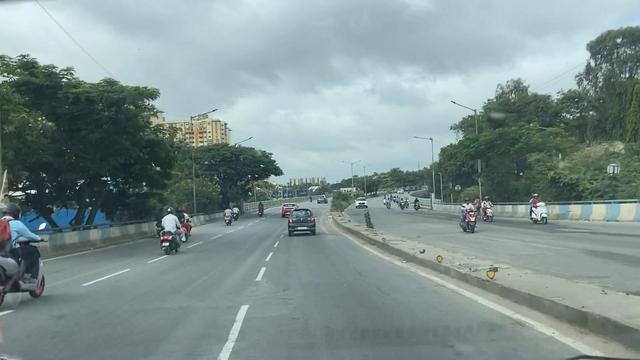LMV: (5, 208, 47, 289), (161, 207, 180, 251), (289, 207, 315, 233)
